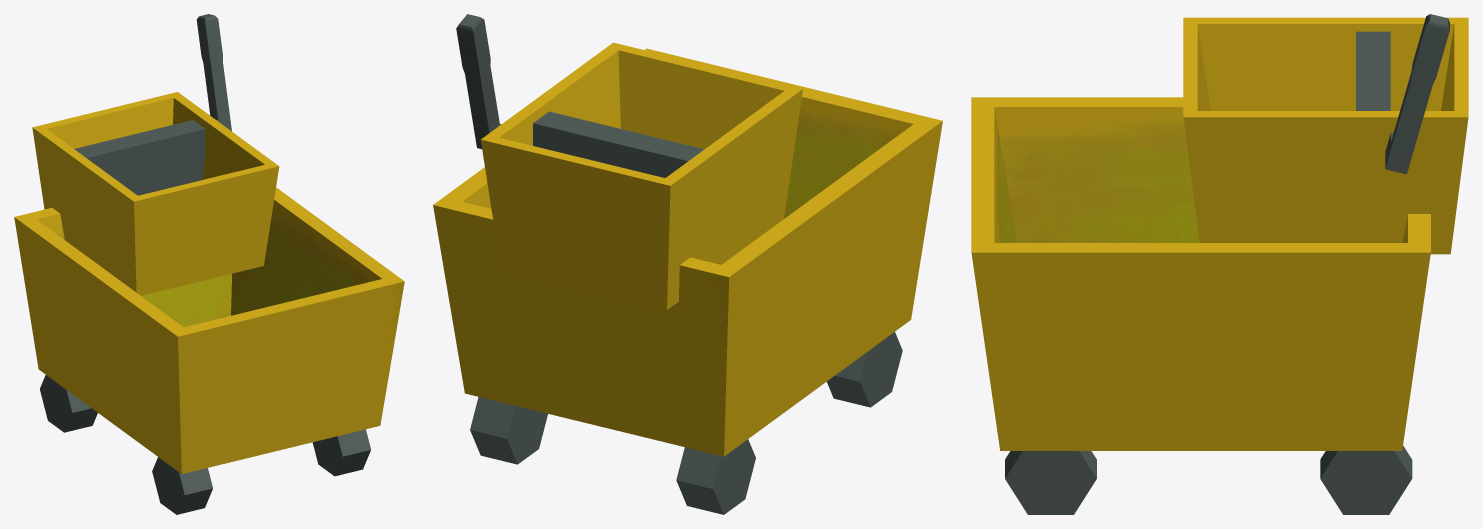
The model's file is FBX_Model_MABacklog_MopBucket_Yellow.fbx.
3 renders of one model, left to right at view 1: azimuth 30°, elevation 25°; view 2: azimuth 150°, elevation 25°; view 3: azimuth 270°, elevation 25°, orthographic. The views are drawn at different scales.
Parts seen in each view (by area): view 1: large_Bucket, small_Bucket, pCube1, wheel1, handle, wheel, wheel2; view 2: large_Bucket, small_Bucket, pCube1, wheel2, wheel3, handle, wheel1; view 3: large_Bucket, small_Bucket, wheel3, wheel, handle, pCube1.
Part boxes in pixels (x1,y1,x2,y2): large_Bucket: [14, 187, 404, 473]; small_Bucket: [32, 92, 279, 295]; pCube1: [74, 120, 205, 195]; wheel1: [152, 457, 212, 514]; handle: [196, 14, 231, 131]; wheel: [312, 429, 370, 476]; wheel2: [40, 375, 97, 432]; large_Bucket: [433, 48, 942, 456]; small_Bucket: [481, 42, 802, 310]; pCube1: [533, 111, 704, 177]; wheel2: [676, 439, 755, 514]; wheel3: [470, 397, 547, 464]; handle: [456, 14, 501, 149]; wheel1: [827, 332, 902, 407]; large_Bucket: [971, 97, 1430, 450]; small_Bucket: [1183, 17, 1468, 254]; wheel3: [1320, 445, 1412, 514]; wheel: [1005, 451, 1096, 514]; handle: [1385, 14, 1449, 174]; pCube1: [1356, 31, 1390, 110].
Bounding box in the file's own units: 8 × 11.8 × 10.82.
1 material, 1 textured.
